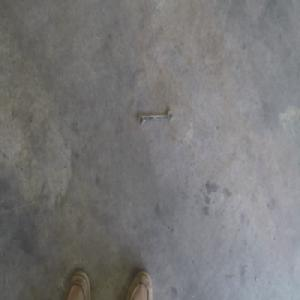Wrench: (137, 110, 173, 126)
